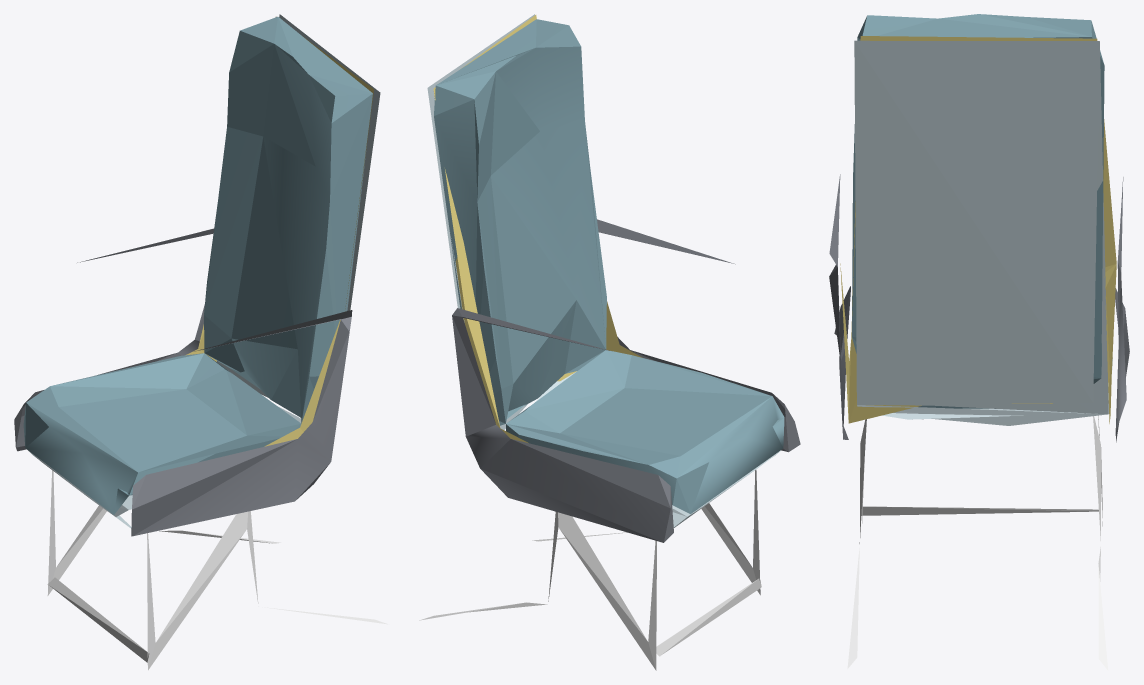
The model's file is Silla1.dae.
3 renders of one model, left to right at view 1: azimuth 30°, elevation 25°; view 2: azimuth 150°, elevation 25°; view 3: azimuth 270°, elevation 25°, orthographic. The views are drawn at different scales.
Parts seen in each view (by area): view 1: imagetostl_mesh4, imagetostl_mesh1, imagetostl_mesh2, imagetostl_mesh0, imagetostl_mesh3, imagetostl_mesh5; view 2: imagetostl_mesh4, imagetostl_mesh1, imagetostl_mesh2, imagetostl_mesh3, imagetostl_mesh0, imagetostl_mesh5; view 3: imagetostl_mesh0, imagetostl_mesh4, imagetostl_mesh3, imagetostl_mesh1, imagetostl_mesh2, imagetostl_mesh5.
Part boxes in pixels (<box>): imagetostl_mesh4: <box>23,16,372,514</box>; imagetostl_mesh1: <box>14,228,352,536</box>; imagetostl_mesh2: <box>47,470,387,670</box>; imagetostl_mesh0: <box>28,14,380,535</box>; imagetostl_mesh3: <box>185,16,373,446</box>; imagetostl_mesh5: <box>47,577,149,662</box>; imagetostl_mesh4: <box>434,19,784,513</box>; imagetostl_mesh1: <box>452,219,800,542</box>; imagetostl_mesh2: <box>419,470,760,670</box>; imagetostl_mesh3: <box>433,15,642,443</box>; imagetostl_mesh0: <box>427,14,780,527</box>; imagetostl_mesh5: <box>656,578,761,656</box>; imagetostl_mesh0: <box>854,40,1112,425</box>; imagetostl_mesh4: <box>852,14,1104,408</box>; imagetostl_mesh3: <box>840,36,1116,423</box>; imagetostl_mesh1: <box>829,174,1129,442</box>; imagetostl_mesh2: <box>847,416,1108,670</box>; imagetostl_mesh5: <box>861,506,1098,515</box>.
Bounding box in the file's own units: 4.22 × 3.5 × 8.11.
